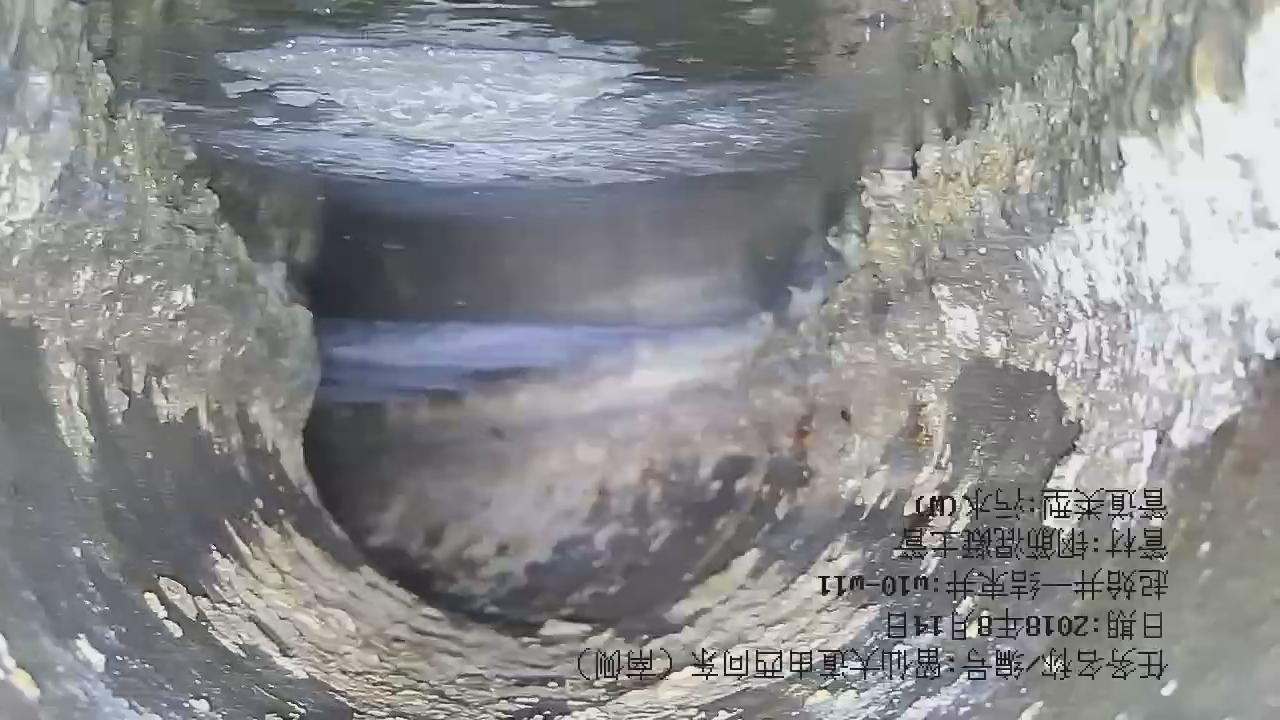FZ: (86, 1, 976, 213)
JG: (1, 1, 1280, 720)
